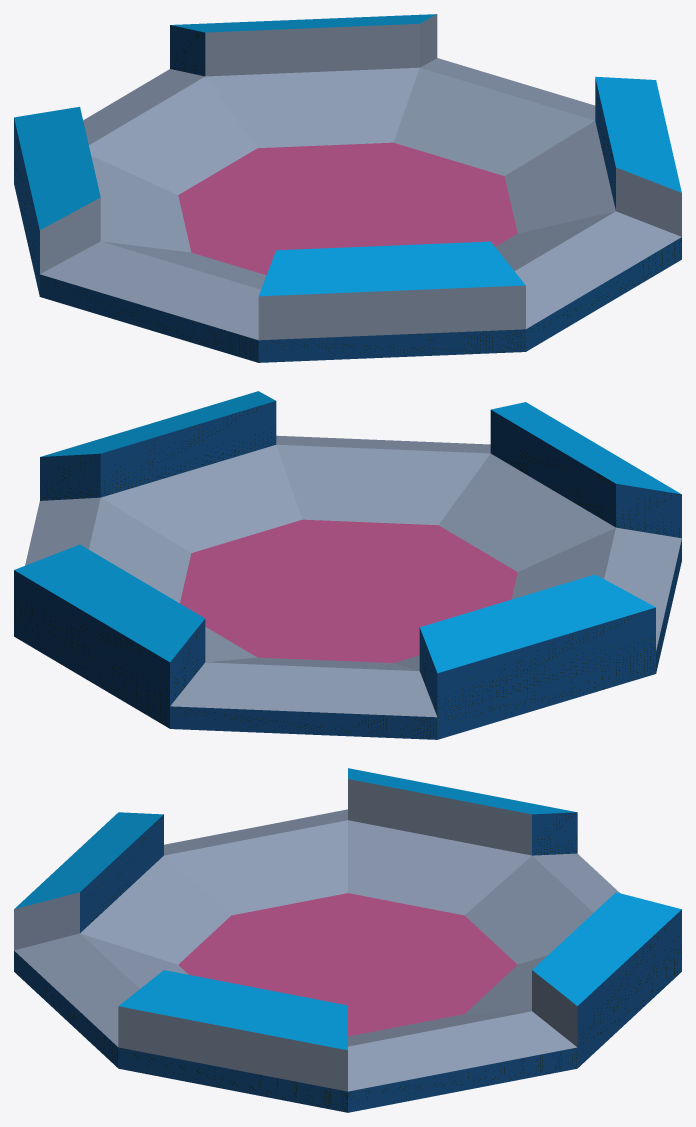
The model's file is Portal.glb.
The picture shows the model from 3 angles, top to bottom: view 1: azimuth 30°, elevation 25°; view 2: azimuth 150°, elevation 25°; view 3: azimuth 270°, elevation 25°; orthographic projection. The views are drawn at different scales.
Parts seen in each view (by area): view 1: Cube; view 2: Cube; view 3: Cube.
Boxes of the visible parts, box(x1,y1,x2,y2) form: Cube: box(14, 14, 681, 362); Cube: box(14, 391, 681, 739); Cube: box(14, 768, 681, 1112).
Size of the model in its own units: 5.46 by 0.7176 by 5.46.
1 material, 1 textured.
